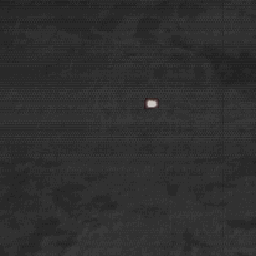Target: (145, 98, 158, 108)
